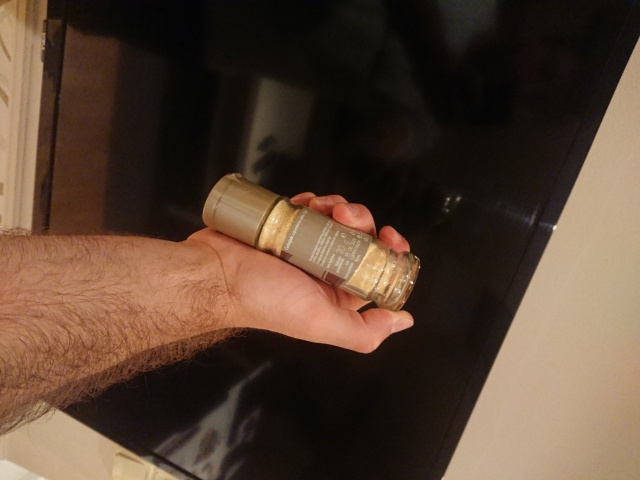Kotanyi Garlic Granules 70g: (199, 168, 423, 314)
